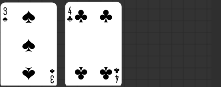4C: (65, 5, 74, 23)
